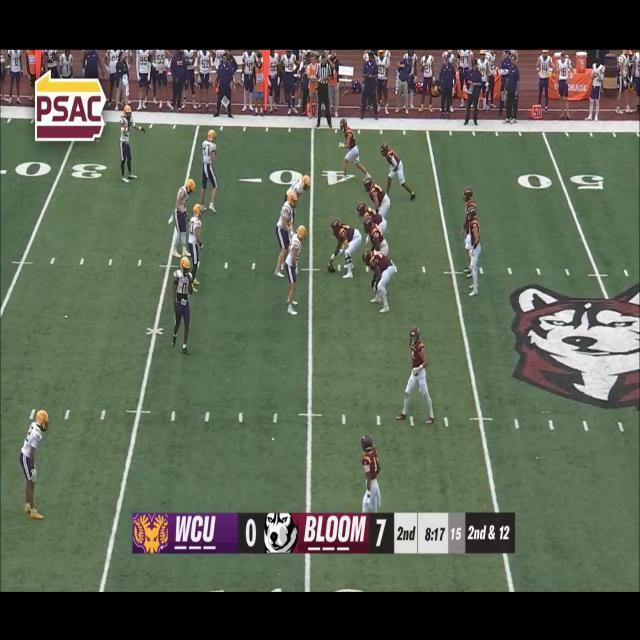football: (325, 261, 338, 276)
